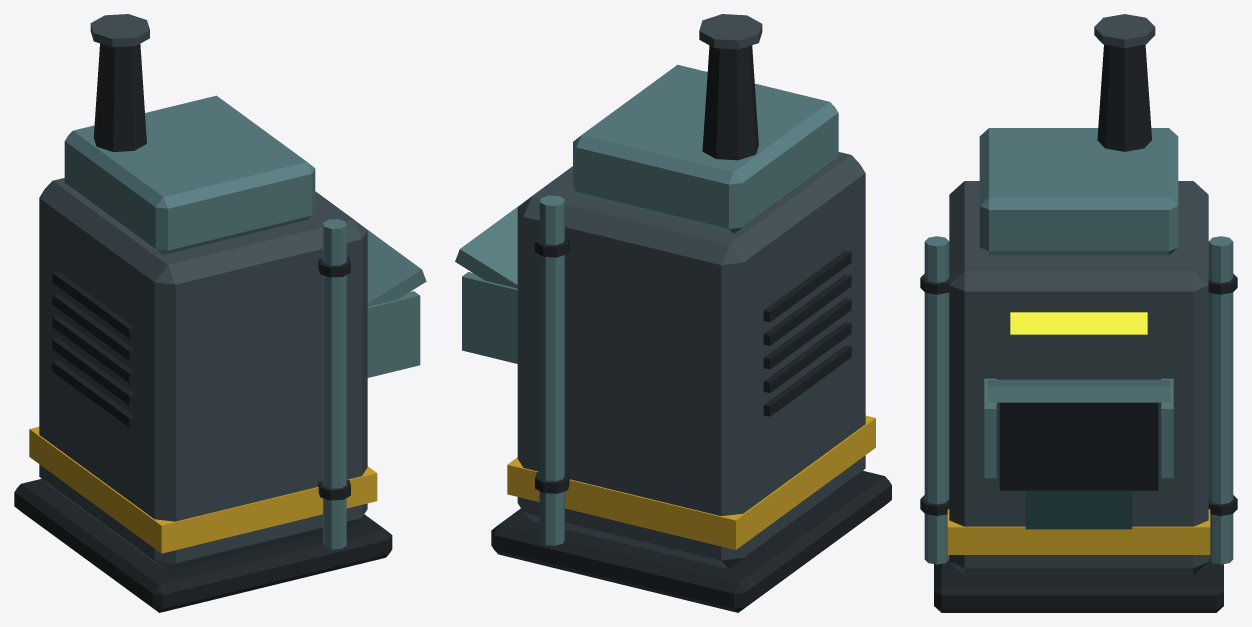
Rendered from Env_Feeder.fbx.
3 views of the same model, side by side, from view 1: azimuth 30°, elevation 25°; view 2: azimuth 150°, elevation 25°; view 3: azimuth 270°, elevation 25° (orthographic). The views are drawn at different scales.
Visible parts, largest first — view 1: Env_Feeder; view 2: Env_Feeder; view 3: Env_Feeder.
Boxes of the visible parts, x1,y1,x2,y2 form: Env_Feeder: (14,14,426,612); Env_Feeder: (455,14,891,612); Env_Feeder: (920,14,1237,612).
Bounding box in the file's own units: 2.23 × 2.08 × 3.63.
